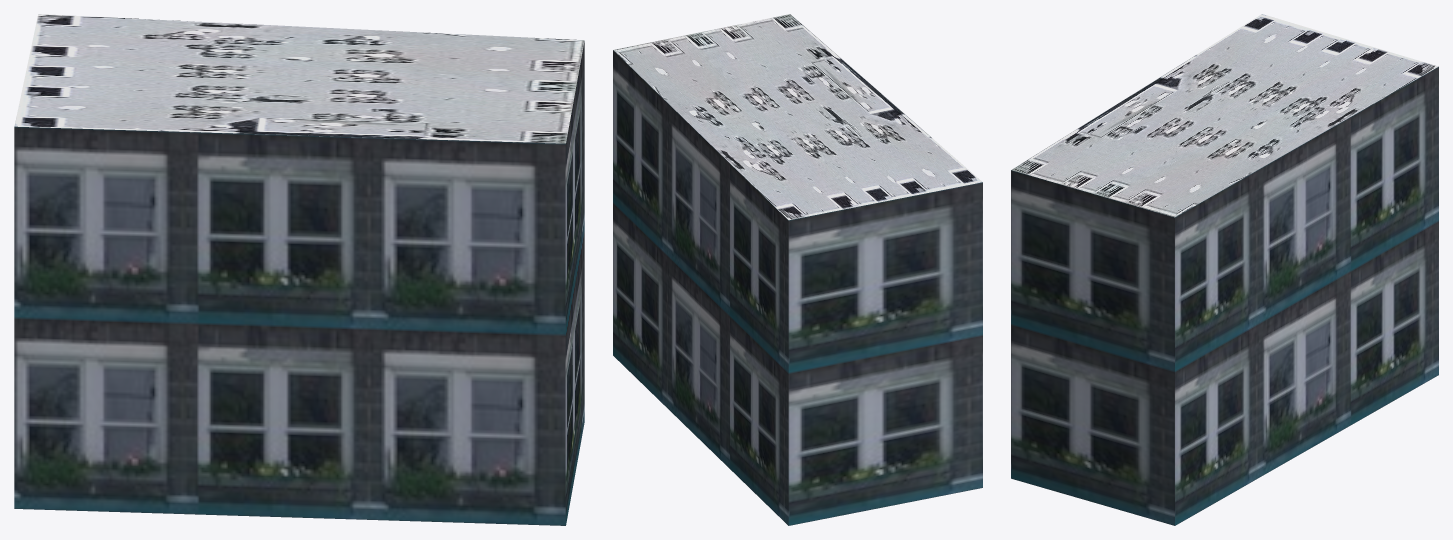
The model's file is ResTex__5265.fbx.
3 renders of one model, left to right at view 1: azimuth 30°, elevation 25°; view 2: azimuth 150°, elevation 25°; view 3: azimuth 270°, elevation 25°, orthographic. The views are drawn at different scales.
Parts seen in each view (by area): view 1: CityEngineMaterial_11_m, CityEngineMaterial_m; view 2: CityEngineMaterial_11_m, CityEngineMaterial_m; view 3: CityEngineMaterial_11_m, CityEngineMaterial_m.
Boxes of the visible parts, x1,y1,x2,y2 form: CityEngineMaterial_11_m: (14, 41, 584, 525); CityEngineMaterial_m: (14, 14, 584, 143); CityEngineMaterial_11_m: (613, 50, 982, 525); CityEngineMaterial_m: (613, 14, 982, 220); CityEngineMaterial_11_m: (1011, 66, 1438, 525); CityEngineMaterial_m: (1011, 14, 1438, 217).
Bounding box in the file's own units: 8.48 × 6 × 7.54.
2 materials, 2 textured.
